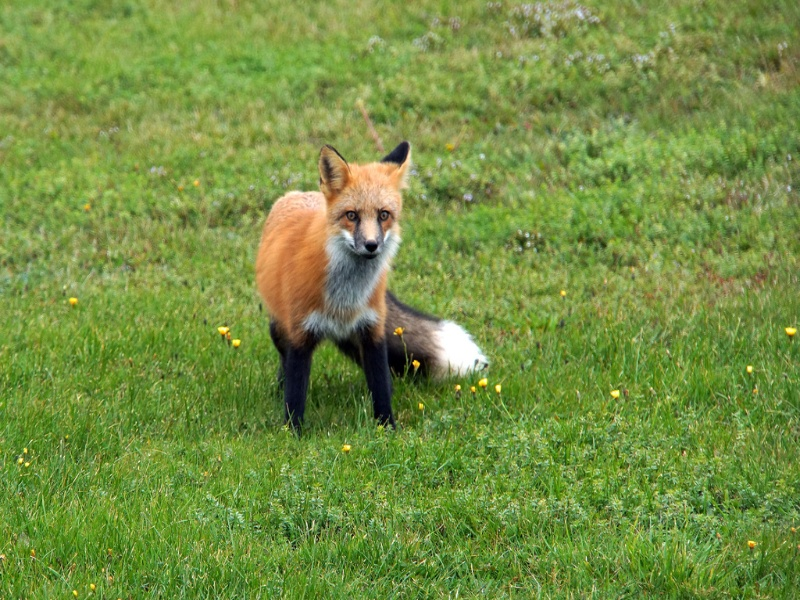fox: (243, 138, 497, 439)
